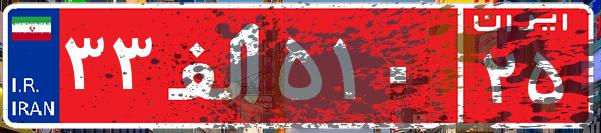0: (385, 28, 445, 110)
1: (330, 28, 385, 110)
2: (475, 38, 525, 113)
3: (57, 26, 110, 107), (110, 28, 158, 105)
5: (273, 28, 330, 110), (525, 38, 570, 115)
الف: (158, 15, 273, 115)
